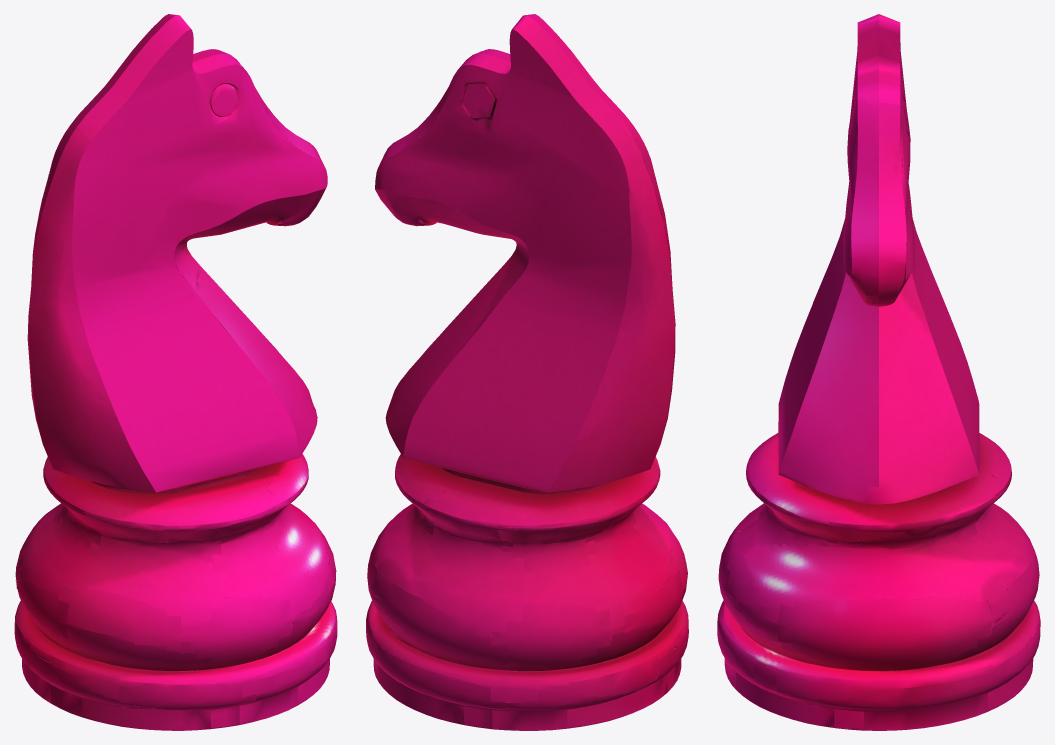
The model's file is knight.glb.
3 renders of one model, left to right at view 1: azimuth 30°, elevation 25°; view 2: azimuth 150°, elevation 25°; view 3: azimuth 270°, elevation 25°, orthographic.
Visible parts, largest first — view 1: Object001.005; view 2: Object001.005; view 3: Object001.005.
Part boxes in pixels (x1,y1,x2,y2): Object001.005: [14, 14, 337, 730]; Object001.005: [366, 14, 688, 730]; Object001.005: [717, 14, 1040, 730].
Size of the model in its own units: 3.95 by 8.37 by 3.76.
Materials: 1 (1 with a texture image).
